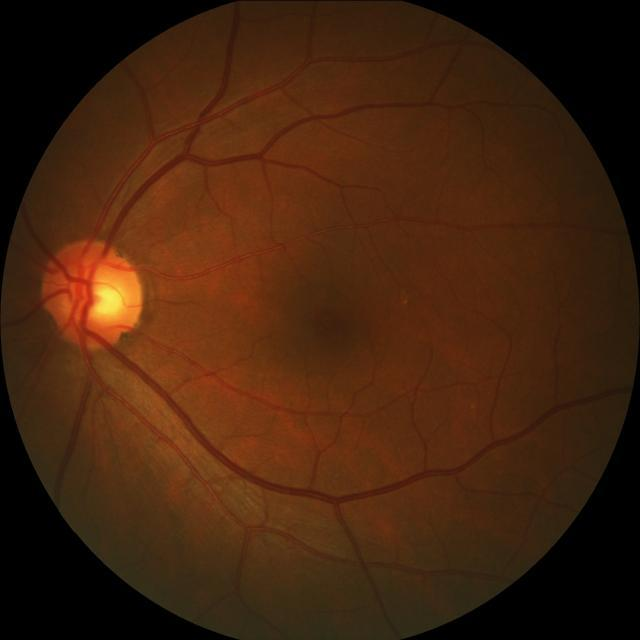OC: (89, 282, 124, 316)
OD: (39, 236, 148, 352)
